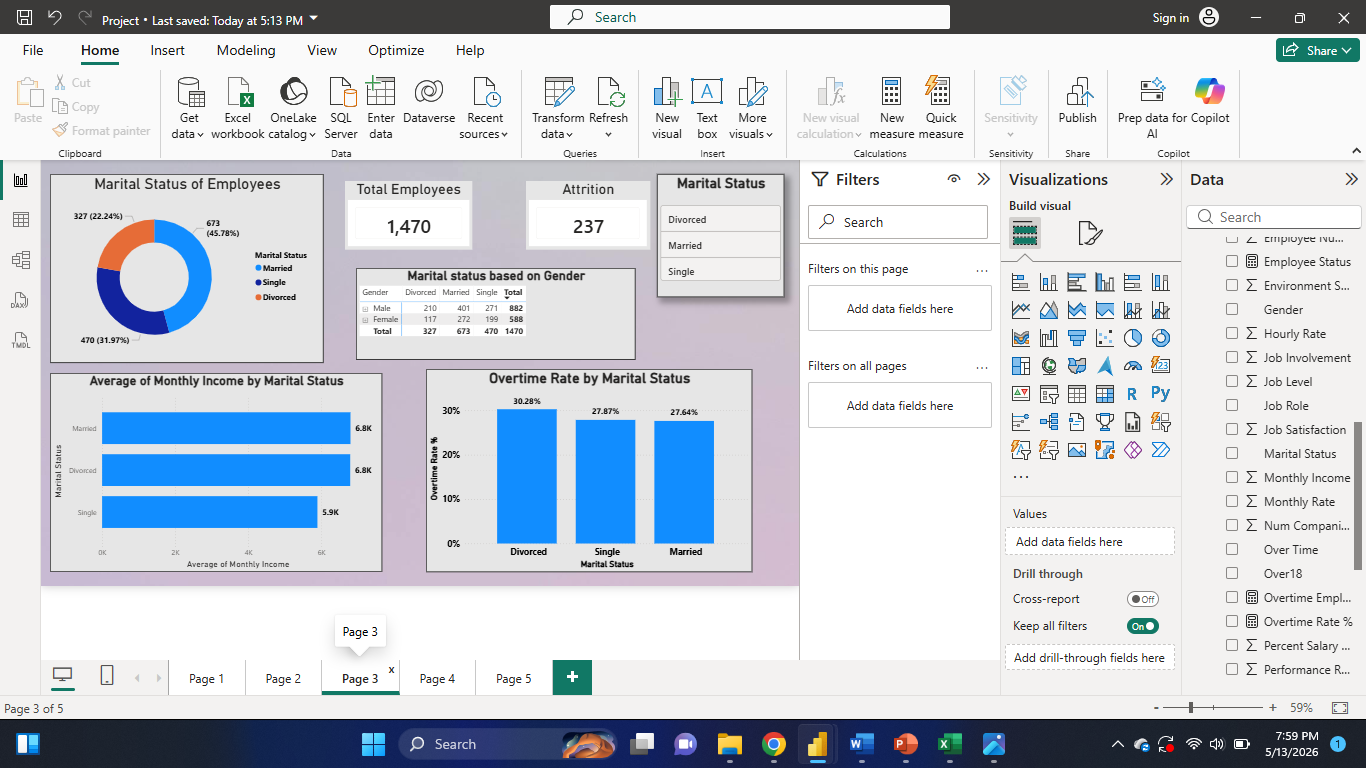

This screenshot's page, from the dashboard's own definition file:
{"tool":"powerbi","page":{"name":"Page 3","canvas":[1280,720],"ordinal":2},"visuals":[{"type":"cardVisual","title":"Marital Status","fields":{"Rows":["HR data.Marital Status"]},"box":[1039.8,23.5,215,208.3],"z":0},{"type":"donutChart","title":"Marital Status of Employees","fields":{"Category":["HR data.Marital Status"],"Y":["Sum(HR data.Employee Count)"]},"box":[15.1,23.5,461.9,319.2],"z":1000},{"type":"pivotTable","title":"Marital status based on Gender","fields":{"Rows":["HR data.Gender","HR data.Over18"],"Values":["CountNonNull(HR data.Job Role)"],"Columns":["HR data.Marital Status"]},"box":[532.5,183.1,472,154.5],"z":2000},{"type":"barChart","fields":{"Y":["Avg(HR data.Monthly Income)"],"Category":["HR data.Marital Status"]},"box":[15.1,359.5,561,336],"z":3000},{"type":"clusteredColumnChart","title":"Overtime Rate by Marital Status","fields":{"Category":["HR data.Marital Status"],"Y":["HR data.Overtime Rate %"]},"box":[650.1,352.8,551,342.7],"z":4000},{"type":"cardVisual","title":"Total Employees","fields":{"Data":["HR data.Total Employees Text"]},"box":[514,35.3,215,115.9],"z":5000},{"type":"cardVisual","title":"Attrition","fields":{"Data":["Sum(HR data.Attrition count)"]},"box":[819.7,35.3,210,115.9],"z":6000}]}

Visuals, with their boxes on the page's 1280x720 design canvas (x1, y1, x2, y2). These are canvas units, not pixel positions in the 1366x768 screenshot, which may show the page scaled, cropped or inside an application window:
"Marital Status" cardVisual: 1040,24,1255,232
"Marital Status of Employees" donutChart: 15,24,477,343
"Marital status based on Gender" pivotTable: 532,183,1004,338
barChart - Avg(HR data.Monthly Income) x HR data.Marital Status: 15,360,576,696
"Overtime Rate by Marital Status" clusteredColumnChart: 650,353,1201,696
"Total Employees" cardVisual: 514,35,729,151
"Attrition" cardVisual: 820,35,1030,151
